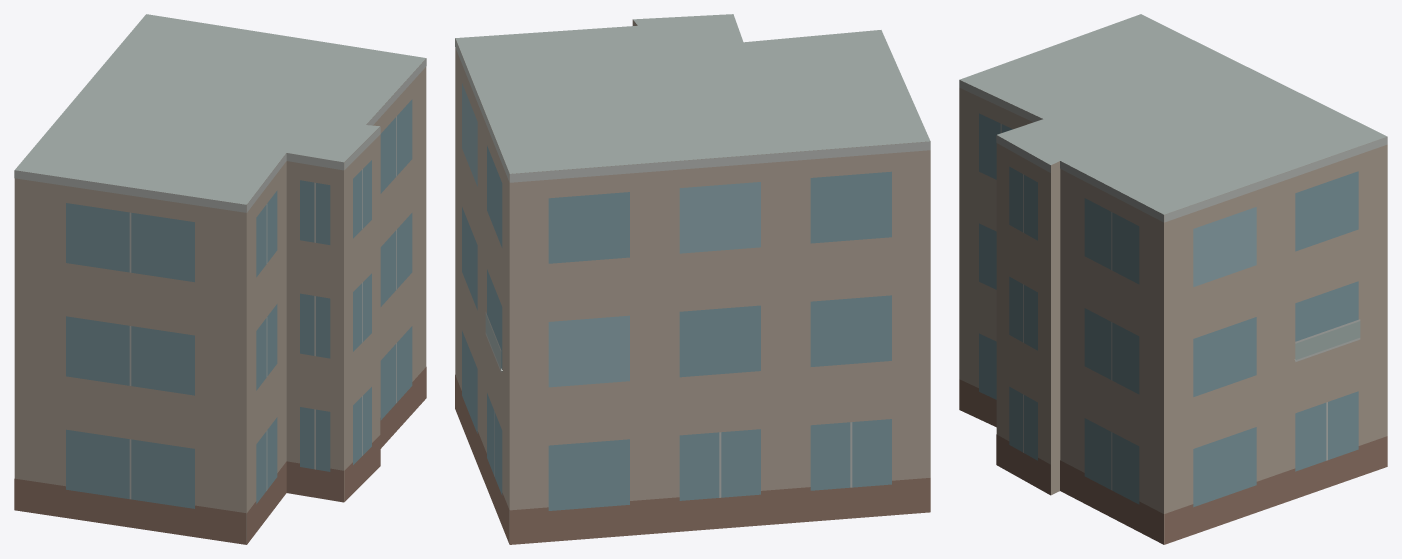
Rendered from survey-upis-32957176.glb.
3 renders of one model, left to right at view 1: azimuth 30°, elevation 25°; view 2: azimuth 150°, elevation 25°; view 3: azimuth 270°, elevation 25°, orthographic. The views are drawn at different scales.
Parts seen in each view (by area): view 1: survey-upis-32957176.tmp; view 2: survey-upis-32957176.tmp; view 3: survey-upis-32957176.tmp.
Part boxes in pixels (x1,y1,x2,y2): survey-upis-32957176.tmp: (14, 14, 426, 544); survey-upis-32957176.tmp: (455, 14, 930, 544); survey-upis-32957176.tmp: (959, 14, 1387, 544).
Bounding box in the file's own units: 13.31 × 10.2 × 12.
